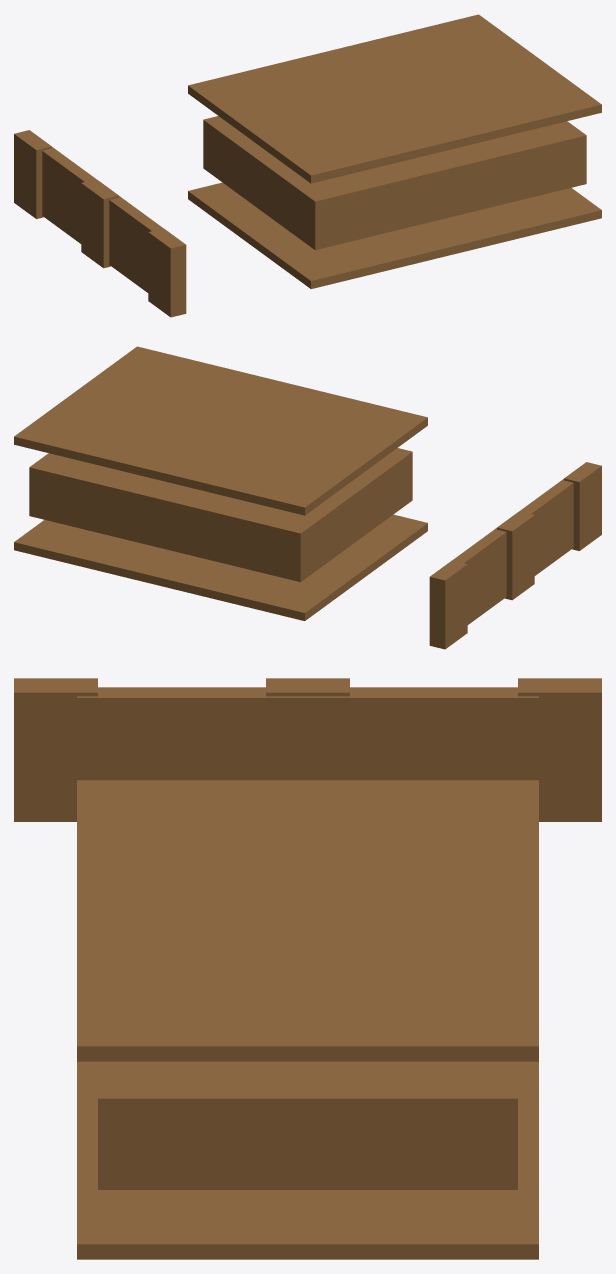
The model's file is closed_book.glb.
The picture shows the model from 3 angles, top to bottom: view 1: azimuth 30°, elevation 25°; view 2: azimuth 150°, elevation 25°; view 3: azimuth 270°, elevation 25°; orthographic projection. The views are drawn at different scales.
Parts seen in each view (by area): view 1: closed_book; view 2: closed_book; view 3: closed_book.
Boxes of the visible parts, <box> form: closed_book: <box>14,14,601,317</box>; closed_book: <box>14,346,601,649</box>; closed_book: <box>14,678,601,1259</box>.
Size of the model in its own units: 0.1155 by 0.028 by 0.07.
